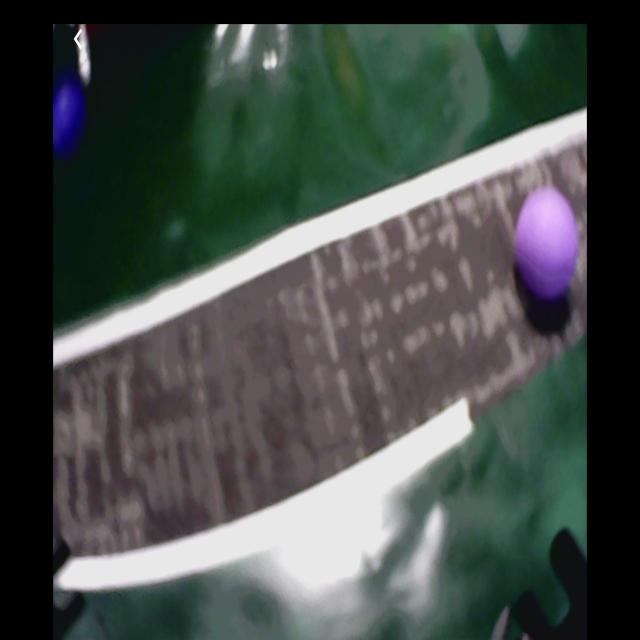ball: (515, 190, 579, 304), (54, 81, 84, 159)
